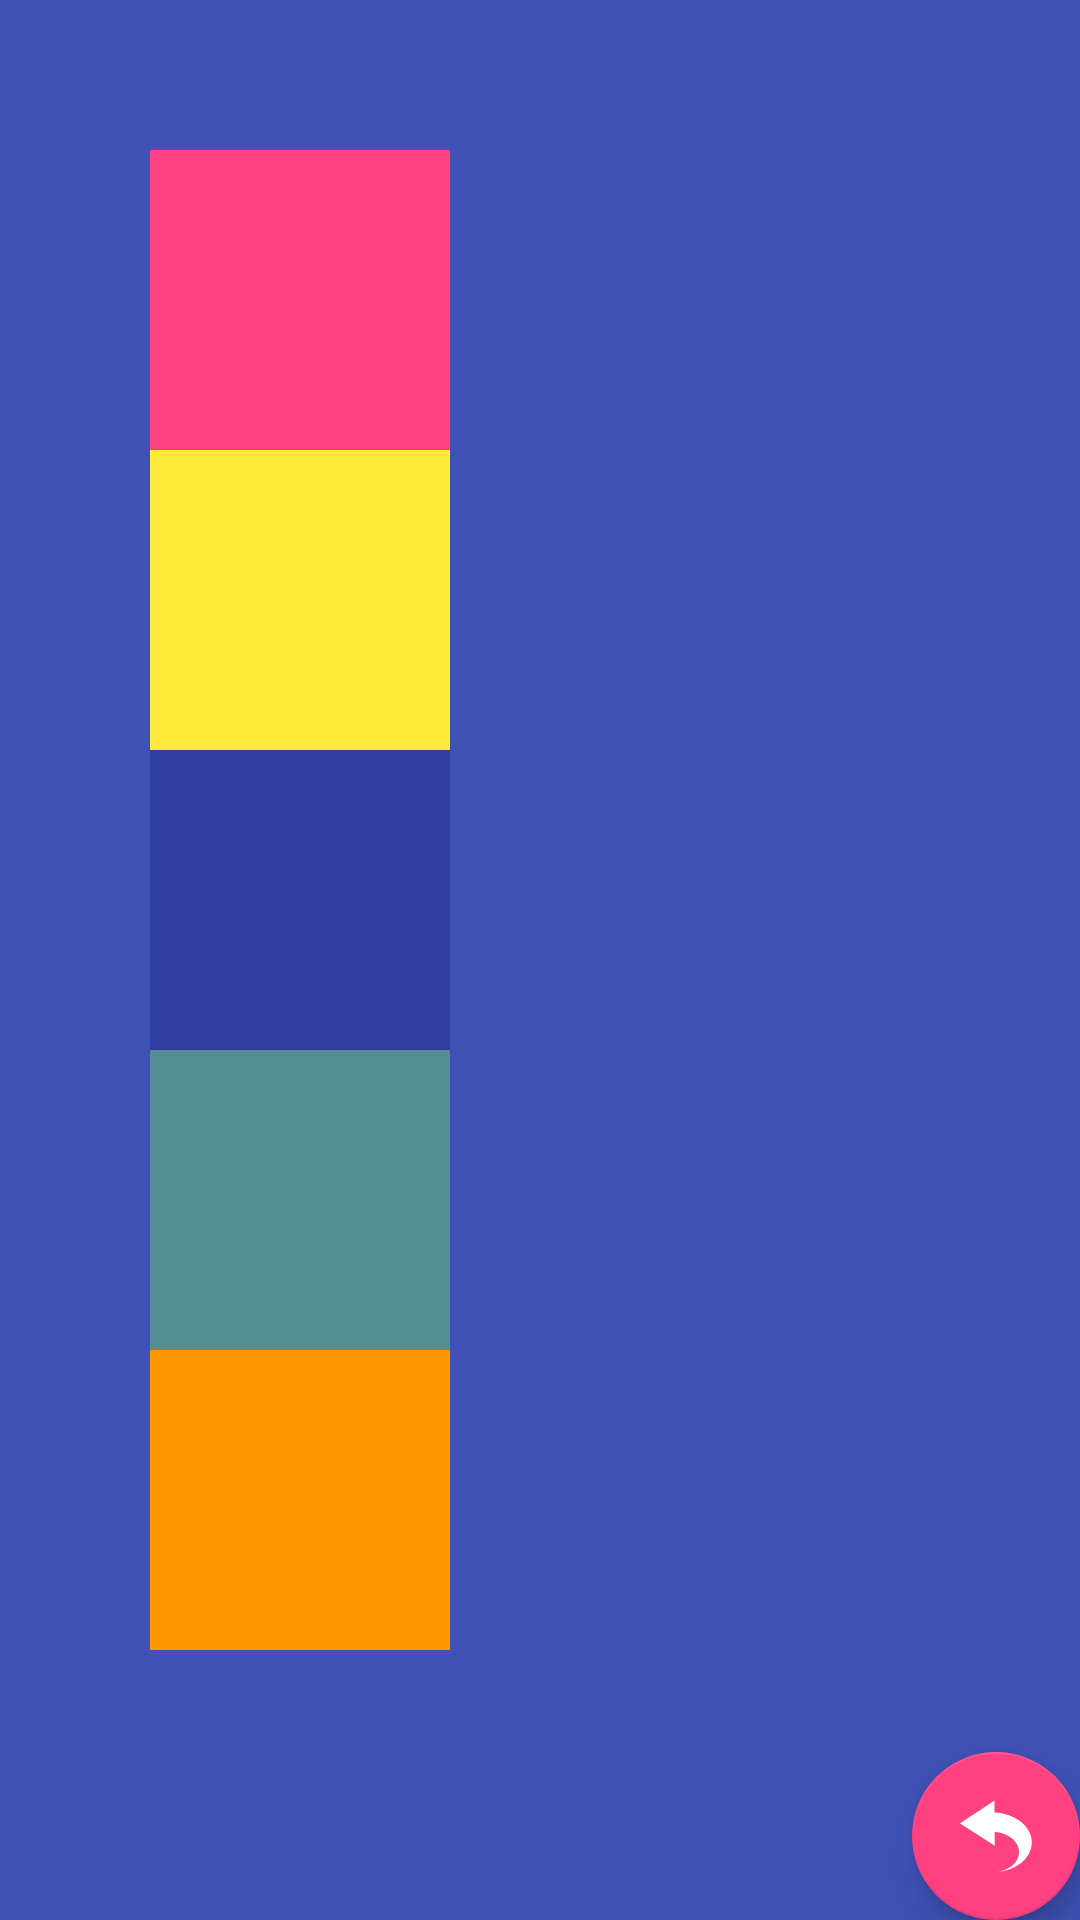

Icons on this 1080px×1920px Android screen, each with the point to tap as (x=x, y=y):
return: (x=996, y=1836)
